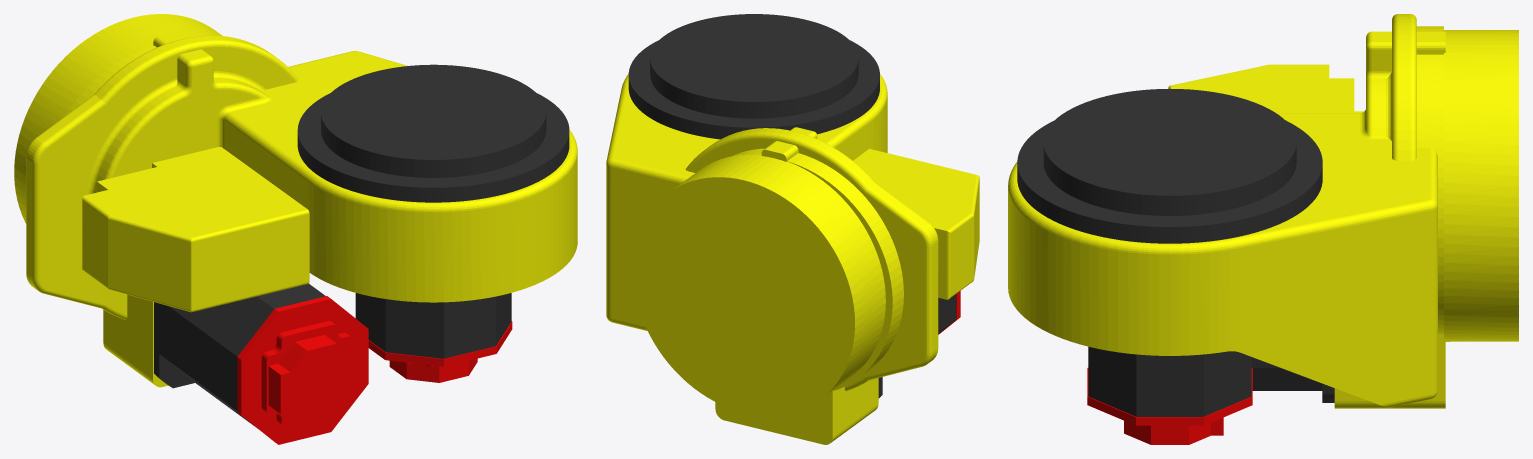
3 views of the same model, side by side, from view 1: azimuth 30°, elevation 25°; view 2: azimuth 150°, elevation 25°; view 3: azimuth 270°, elevation 25° (orthographic). The views are drawn at different scales.
Parts seen in each view (by area): view 1: node; view 2: node; view 3: node.
Boxes of the visible parts, box(x1,y1,x2,y2) form: node: box(14, 14, 577, 444); node: box(606, 14, 979, 444); node: box(1008, 14, 1518, 444).
Bounding box in the file's own units: 442 × 308 × 410.
